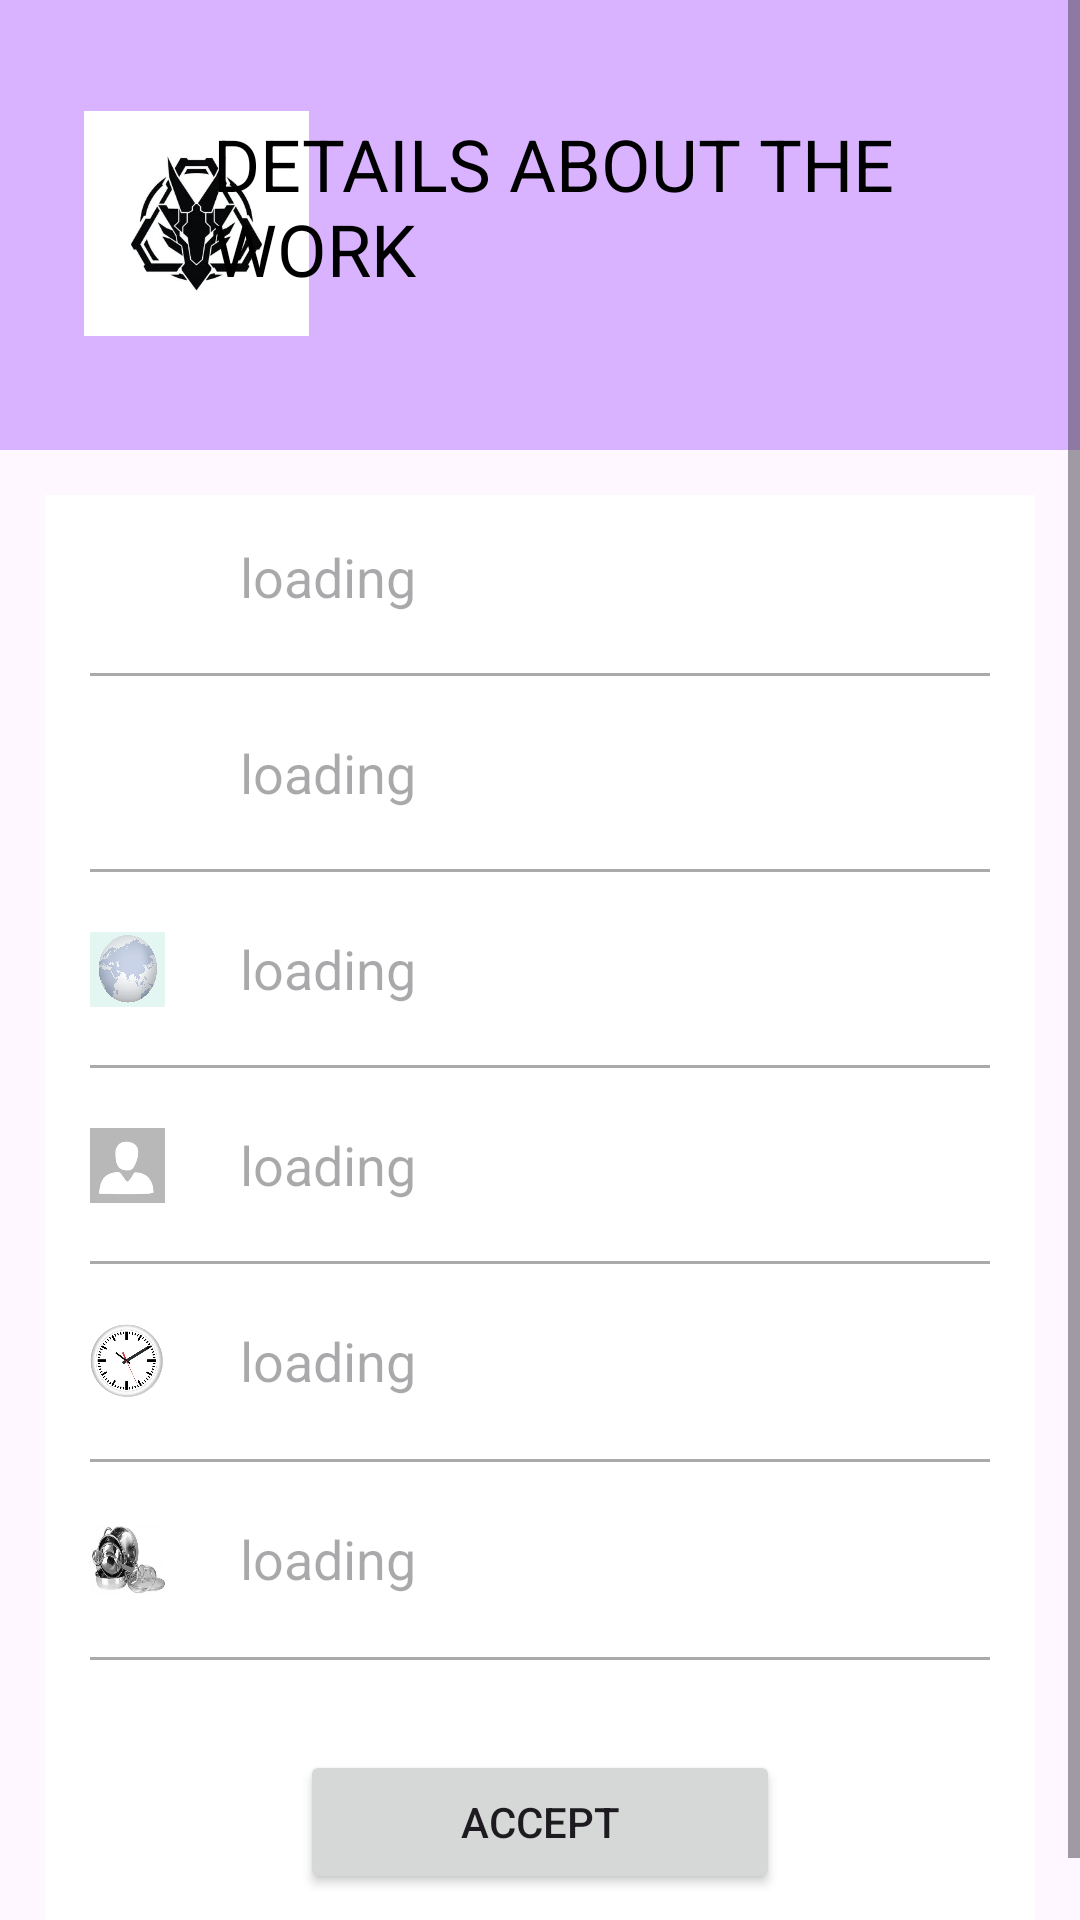

Screen size 1080x1920. Icon name, then its center in pixels as (x,y):
clock: (127,1361)
location: (127,969)
profile pic: (127,1165)
